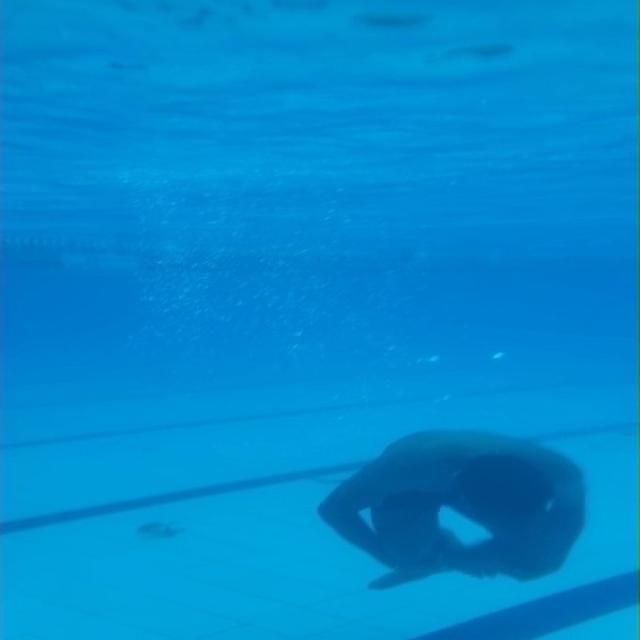Drowning: (318, 429, 586, 591)
